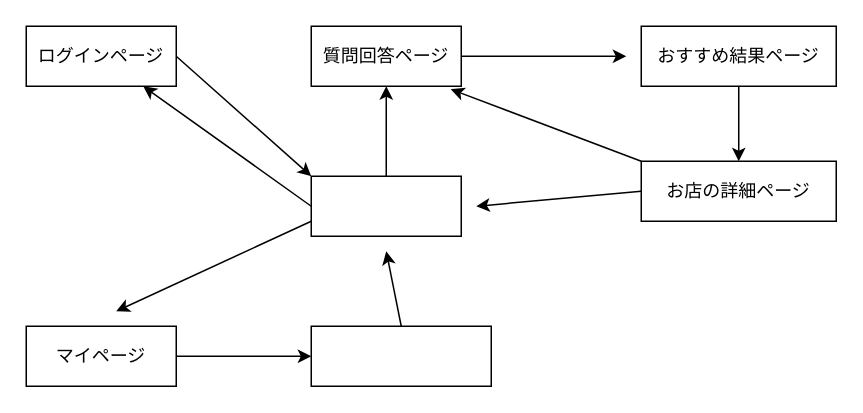
Image size: 863x413. Some labels were removed from this diagram. The centre of each missing label's shape, as x and y in pixels:
お気に入りページ: [400,355]
トップページ: [385,205]
